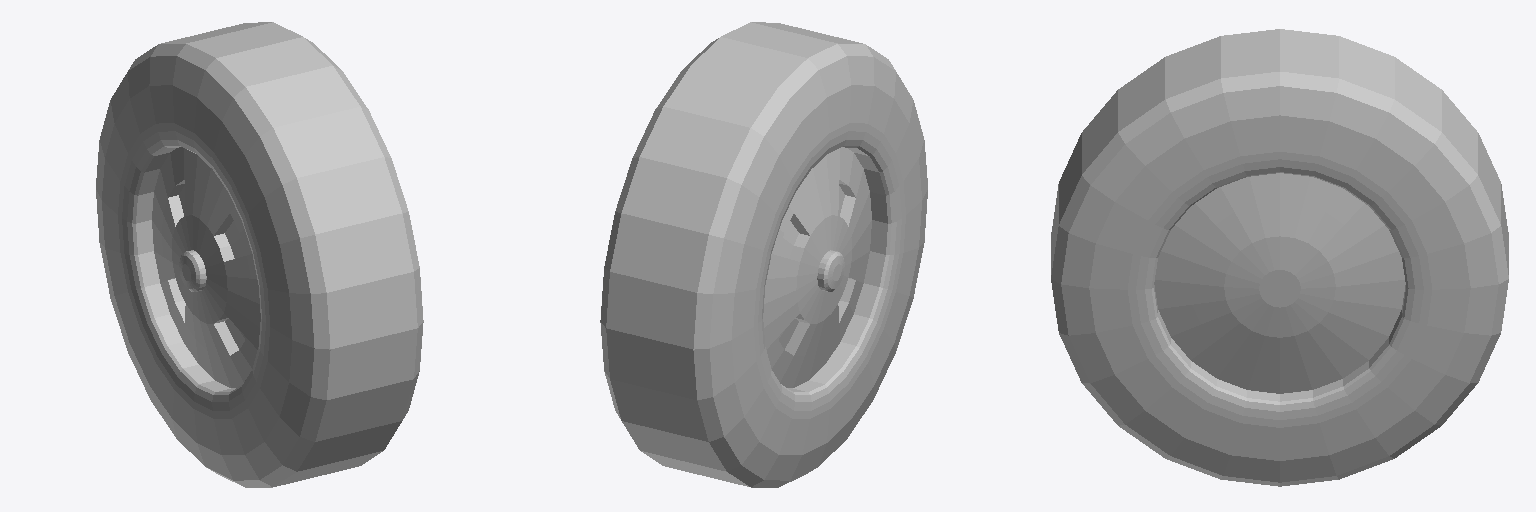
The model's file is llantaTraDer.obj.
3 views of the same model, side by side, from view 1: azimuth 30°, elevation 25°; view 2: azimuth 150°, elevation 25°; view 3: azimuth 270°, elevation 25° (orthographic).
Parts seen in each view (by area): view 1: truck_wheel__rear.001; view 2: truck_wheel__rear.001; view 3: truck_wheel__rear.001.
Boxes of the visible parts, box(x1,y1,x2,y2) form: truck_wheel__rear.001: box(96, 22, 423, 487); truck_wheel__rear.001: box(600, 22, 927, 487); truck_wheel__rear.001: box(1051, 29, 1508, 486).
Size of the model in its own units: 1.43 by 4.09 by 4.09.